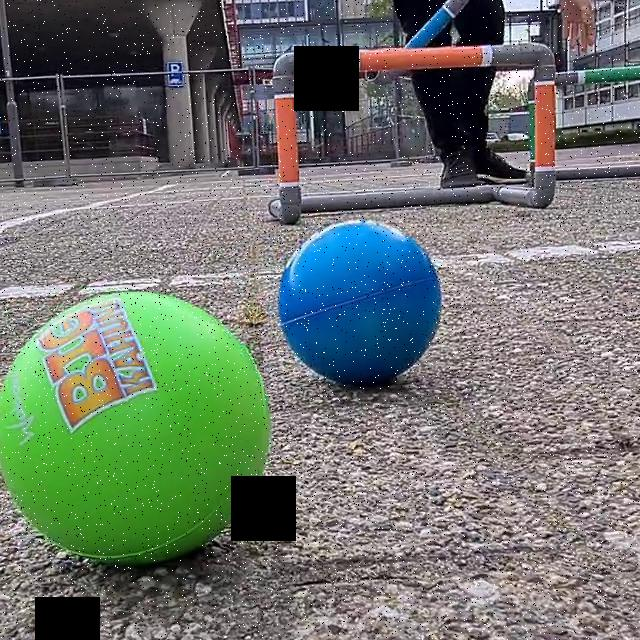ball: (268, 216, 446, 399)
